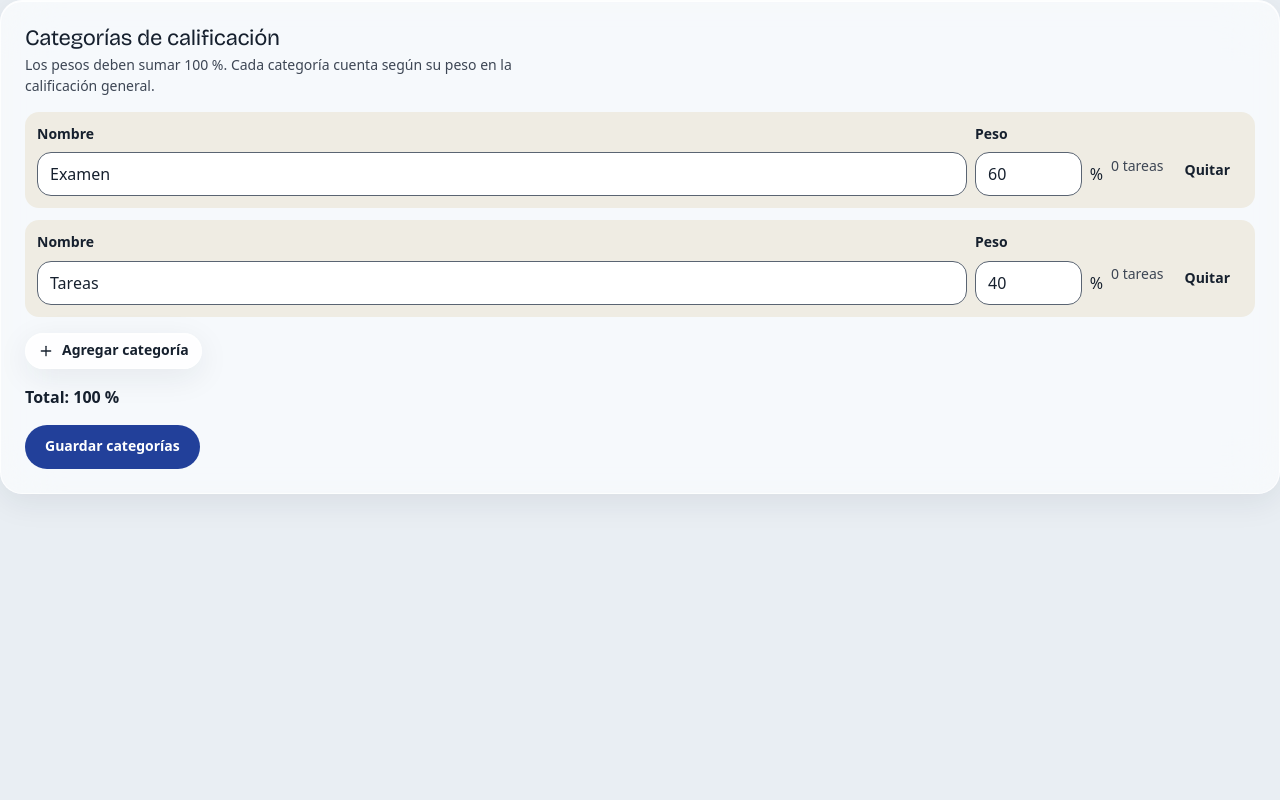
Test: CategoriasView (PR-1E03) › PR-1E03 · un VALIDACION del servidor de una fila queda bajo esa fila, y uno de la lista bajo el total
Check: the 2nd field showing "Tareas" is shown, box x1=37 y1=261 x2=967 y2=305
Click the button "Guardar categorías" at (112, 447), box x1=25 y1=425 x2=200 y2=469
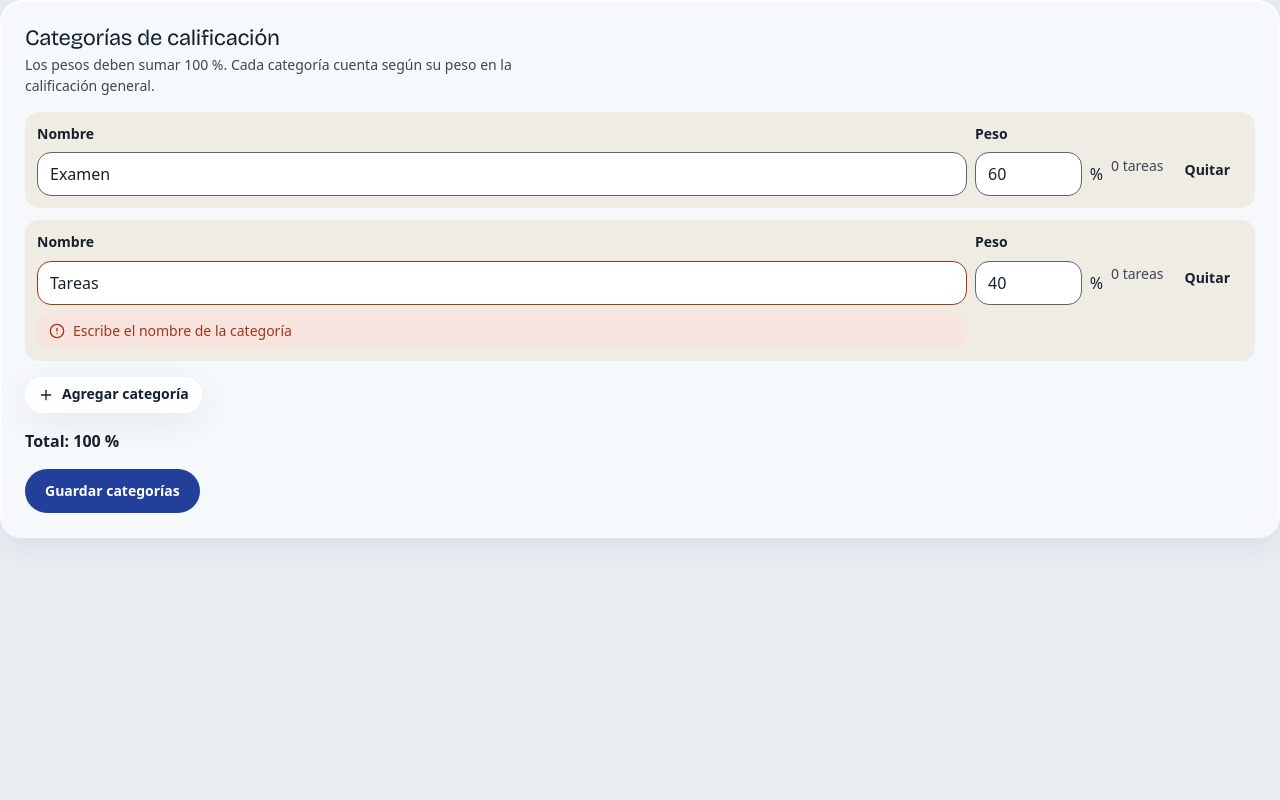
Check: the text "Escribe el nombre de la categoría" is shown, box x1=37 y1=313 x2=967 y2=349
Click the button "Guardar categorías" at (112, 491), box x1=25 y1=469 x2=200 y2=513
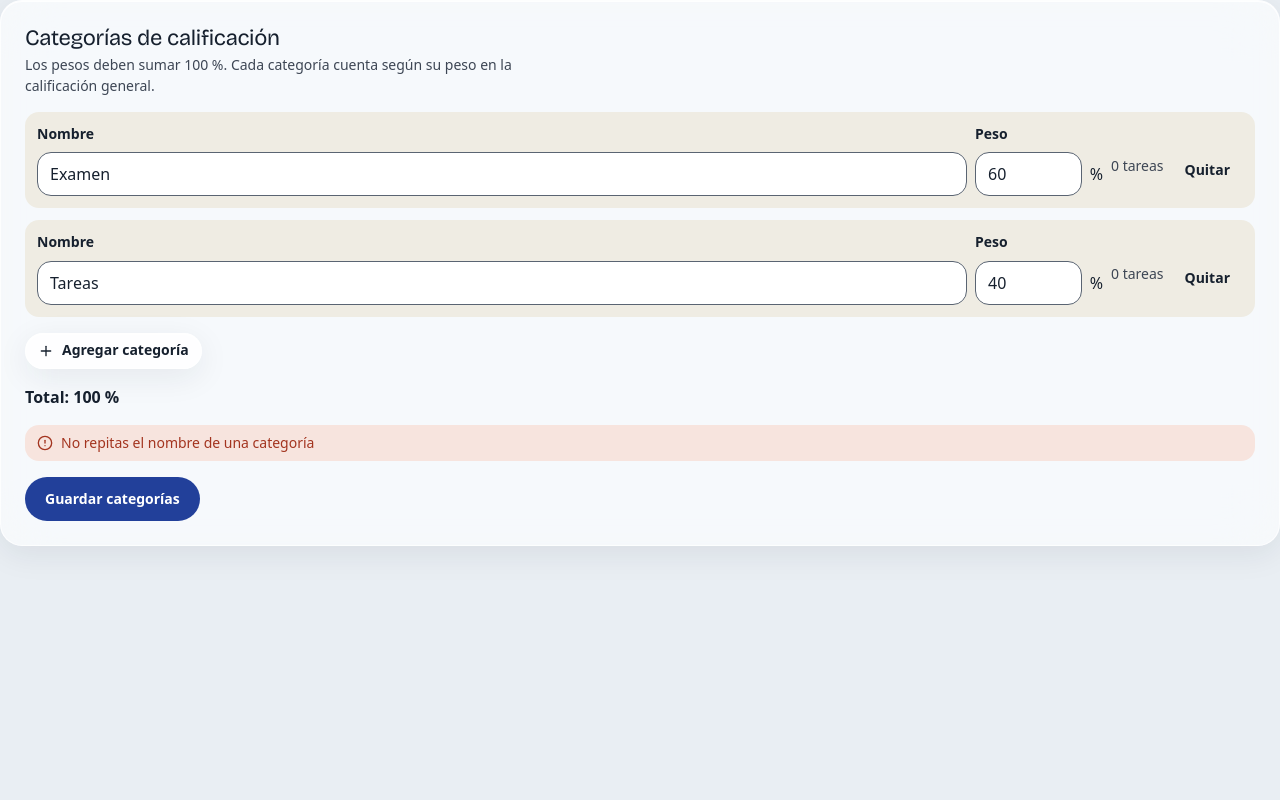
Check: the text "No repitas el nombre de una categoría" is shown, box x1=25 y1=425 x2=1255 y2=461
